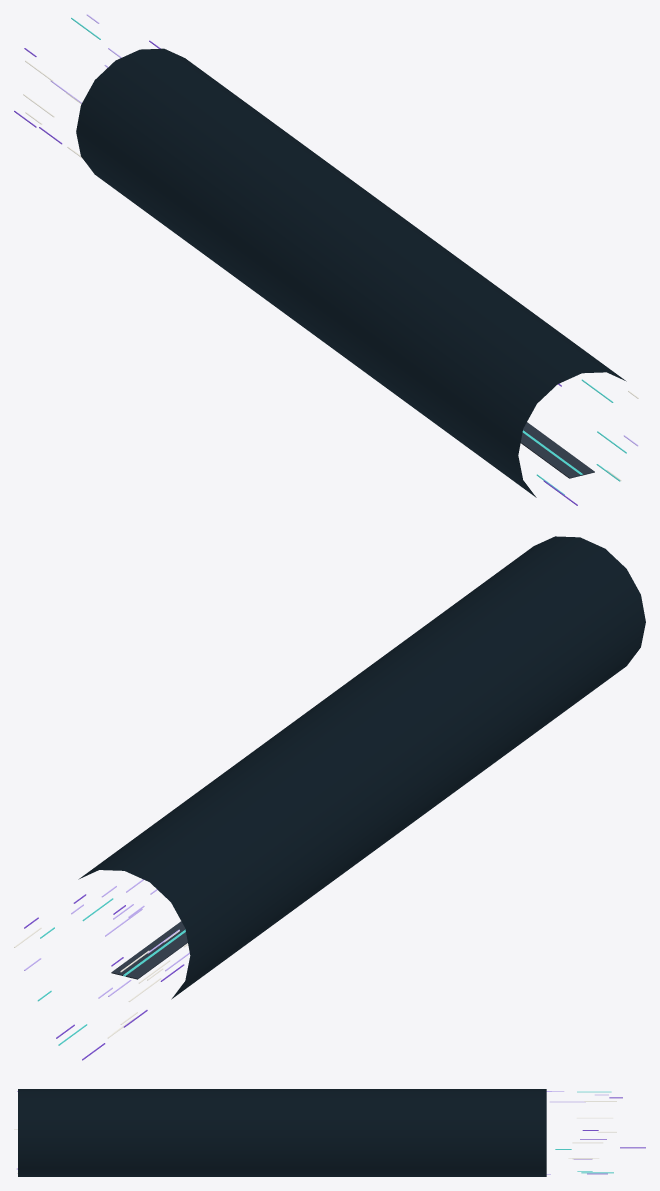
The model's file is tunel_hiperespaco.glb.
3 renders of one model, top to bottom at view 1: azimuth 30°, elevation 25°; view 2: azimuth 150°, elevation 25°; view 3: azimuth 270°, elevation 25°, orthographic. The views are drawn at different scales.
Parts seen in each view (by area): view 1: casca, caminho, riscos_malha; view 2: casca, caminho, riscos_malha; view 3: casca, riscos_malha.
Part boxes in pixels (bbox=[...]): casca: bbox=[76, 48, 626, 497]; caminho: bbox=[520, 422, 594, 478]; riscos_malha: bbox=[14, 14, 638, 505]; casca: bbox=[78, 536, 645, 999]; caminho: bbox=[111, 921, 187, 979]; riscos_malha: bbox=[14, 879, 189, 1060]; casca: bbox=[18, 1089, 546, 1176]; riscos_malha: bbox=[14, 1091, 645, 1174].
Bounding box in the file's own units: 6 × 6 × 43.05.
